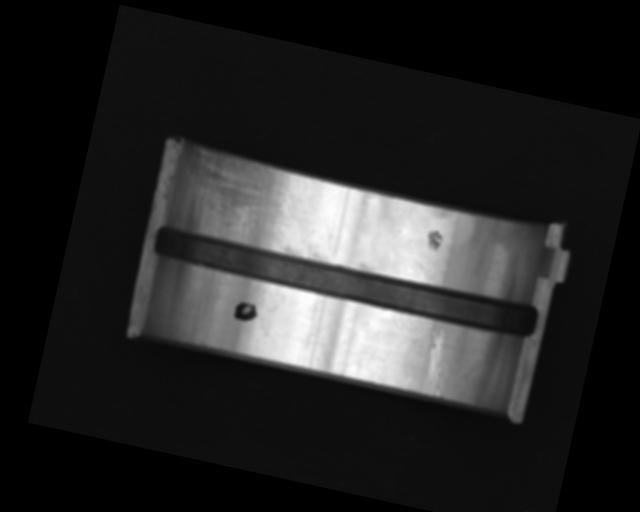blot: (231, 299, 261, 324)
bruise: (422, 227, 447, 254)
gap: (148, 220, 542, 343)
nick: (417, 327, 455, 401)
scratch: (170, 141, 317, 258)
